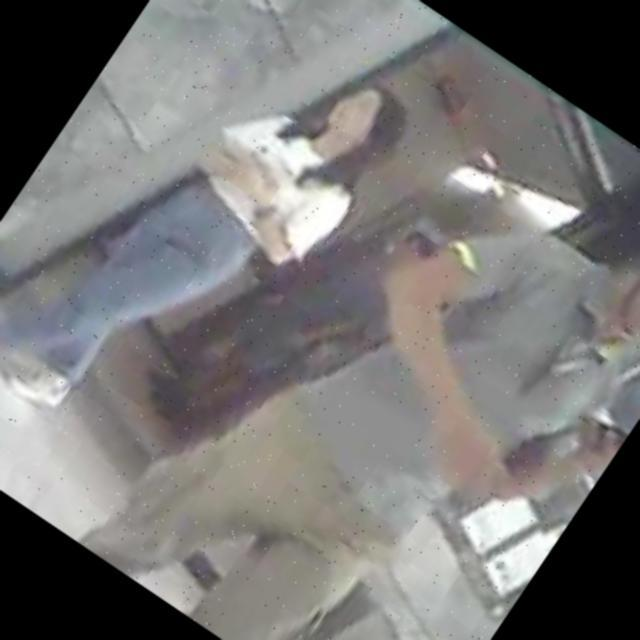person: (71, 22, 640, 640), (0, 0, 420, 510), (145, 159, 441, 492)
